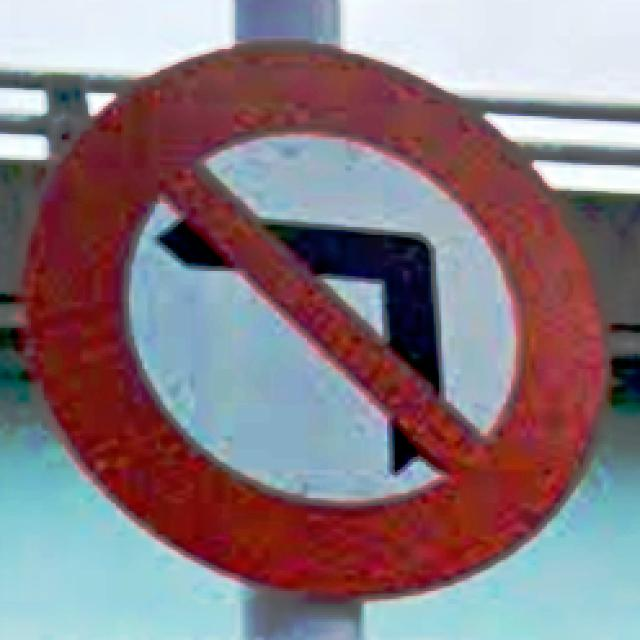noturnleft: (15, 44, 612, 606)
